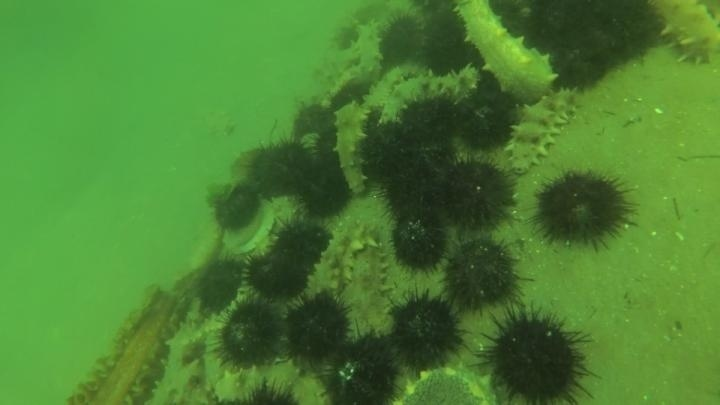echinus: (477, 304, 595, 404), (532, 166, 637, 252), (440, 235, 524, 317), (431, 154, 518, 233), (385, 289, 466, 372), (318, 334, 403, 404), (281, 291, 354, 365), (213, 297, 286, 370), (241, 134, 319, 198), (377, 154, 449, 220), (356, 118, 426, 185), (417, 10, 480, 79), (388, 207, 451, 275), (394, 92, 467, 150), (290, 155, 354, 221), (241, 250, 310, 304), (267, 216, 333, 272), (544, 42, 610, 93), (206, 180, 264, 234), (194, 256, 248, 314), (457, 93, 516, 145), (376, 12, 428, 68), (288, 97, 337, 142), (222, 380, 307, 405), (325, 77, 373, 117), (331, 15, 364, 49)
holothurian: (452, 1, 559, 100), (303, 222, 385, 311), (147, 307, 220, 405), (504, 86, 583, 175), (372, 61, 480, 119), (346, 239, 395, 341), (649, 1, 719, 68), (212, 362, 317, 405), (331, 18, 388, 94), (330, 98, 374, 196), (366, 60, 433, 113)
scallop: (396, 366, 494, 403)
